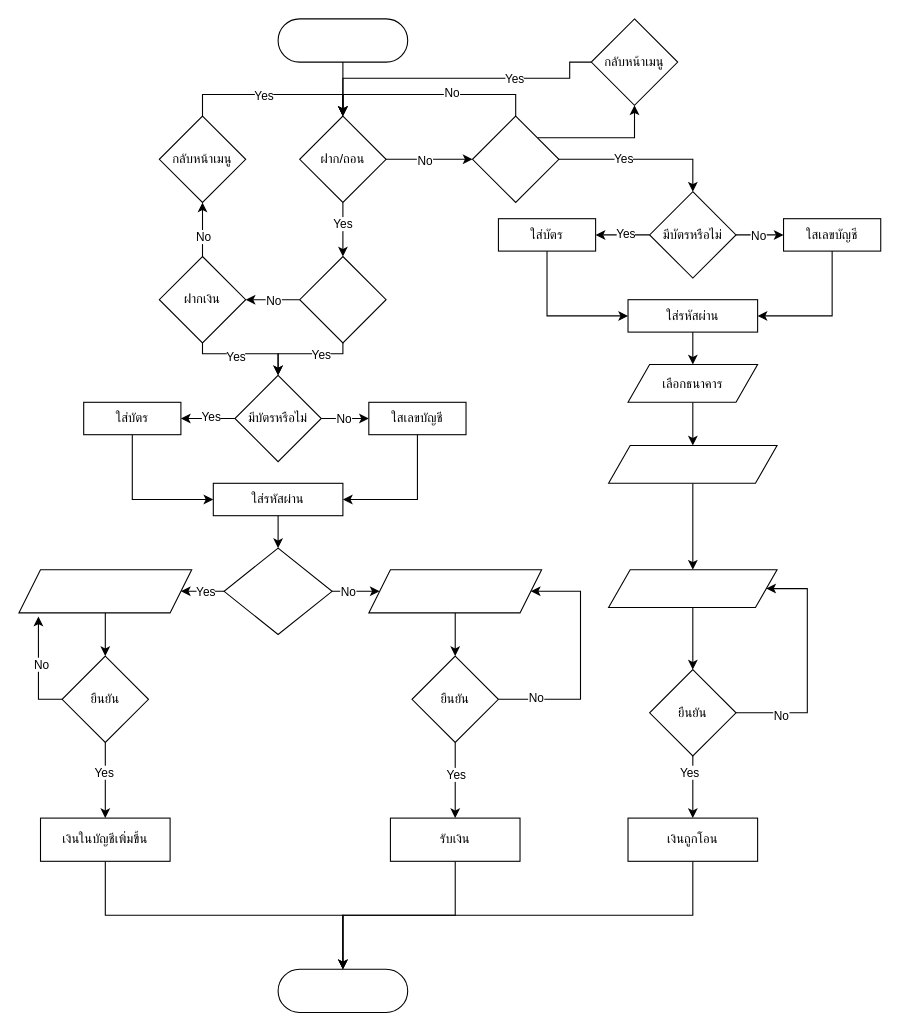
Image size: 900x1031. Some labels were removed from this diagram. The shapes that lost their labels are listed below. From the top down, each one's centre as x and y in pixels, then its label:
the point at 342,40: START
the point at 515,158: โอนเงิน
the point at 342,299: ถอนเงิน
the point at 692,463: ใส่เลขบัญชีปลายทาง
the point at 105,591: จำนวนเงินที่ต้องการฝาก
the point at 277,590: เป็นการฝากเงิน
the point at 455,591: จำนวนเงินที่ต้องการถอน
the point at 692,588: จำนวนเงิน
the point at 342,990: END
